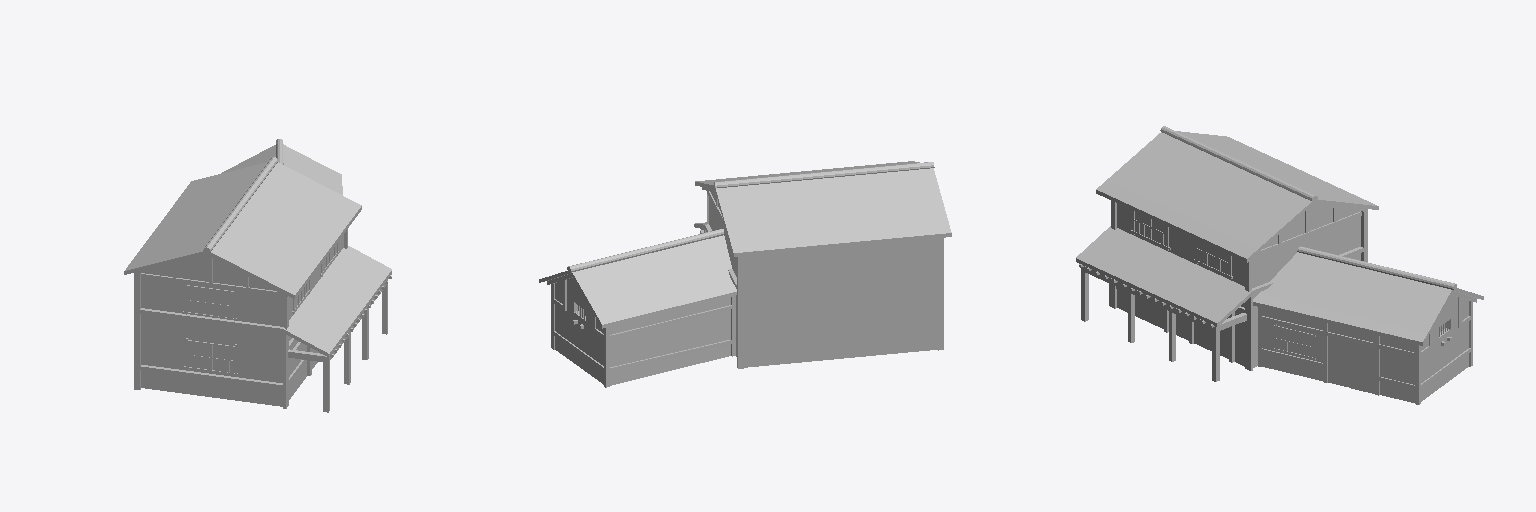
Rendered from house2.obj.
3 renders of one model, left to right at view 1: azimuth 30°, elevation 25°; view 2: azimuth 150°, elevation 25°; view 3: azimuth 270°, elevation 25°, orthographic.
Visible parts, largest first — view 1: Cube.003_Cube.004; view 2: Cube.003_Cube.004; view 3: Cube.003_Cube.004.
Part boxes in pixels (x1,y1,x2,y2): Cube.003_Cube.004: (124,139,391,412); Cube.003_Cube.004: (539,161,951,387); Cube.003_Cube.004: (1076,126,1483,404).
Bounding box in the file's own units: 16.77 × 7.88 × 18.84.